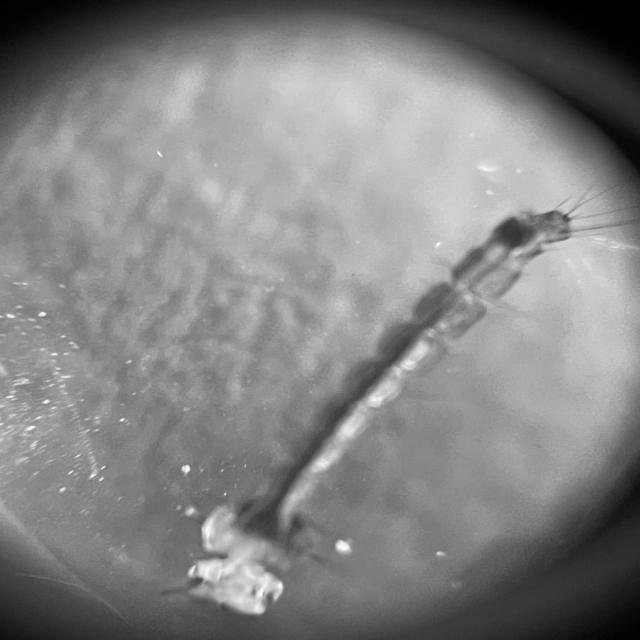larvas: (187, 207, 580, 613)
